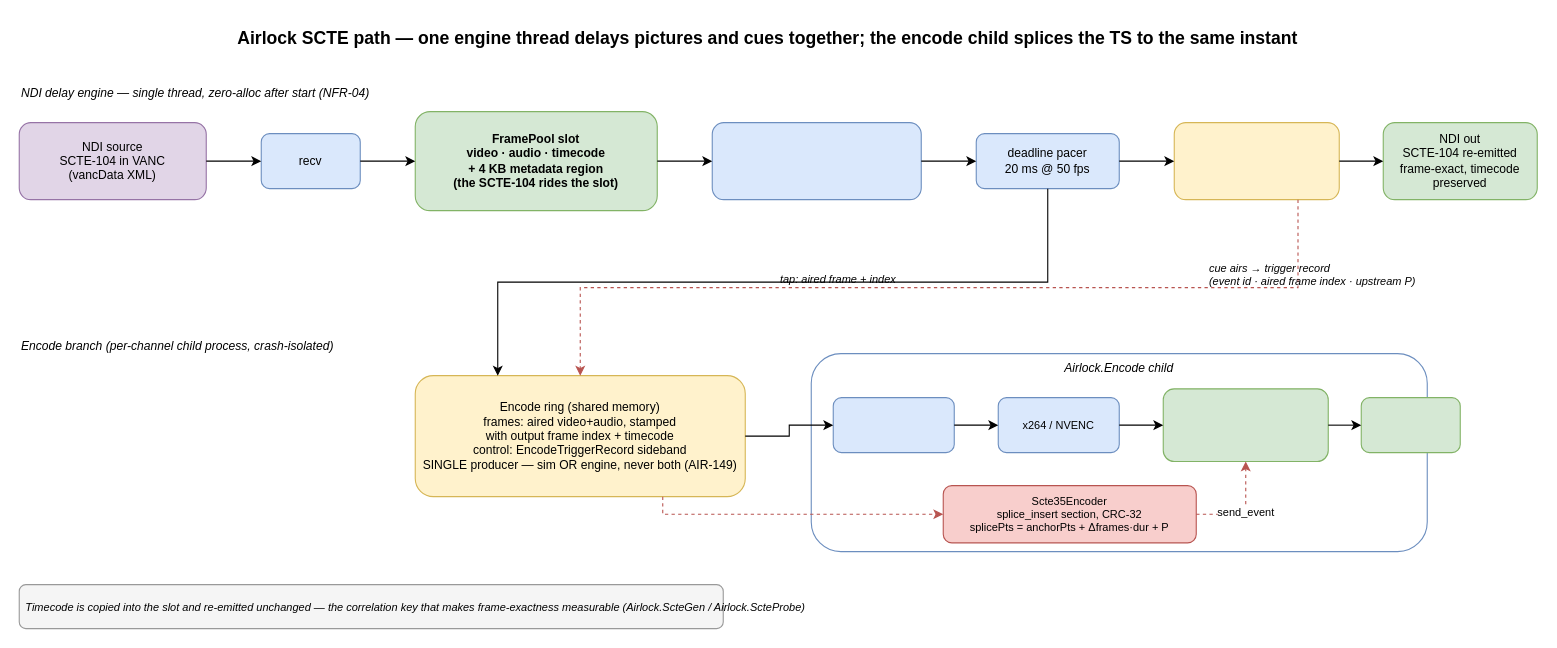
Some shapes in this 1557 by 648 pixel diagram are drawn without their labels. The shapes that lost their labels are listed below. From the top down, each one's centre as x and y in pixels, then its label:
(x=816, y=161): DelayFifo N slots = depth (BUILD grows · DUMP jumps)
(x=1256, y=161): CueGate at air policy · blocks · absolute-drop (FR-63)
(x=893, y=425): appsrc PTS = content time
(x=1245, y=424): mpegtsmux scte-35-pid=500 (0x86) pts_adjustment = +1 h base
(x=1410, y=425): srtsink SRT out
